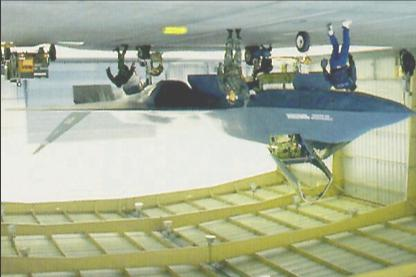US2: (3, 31, 415, 204)
